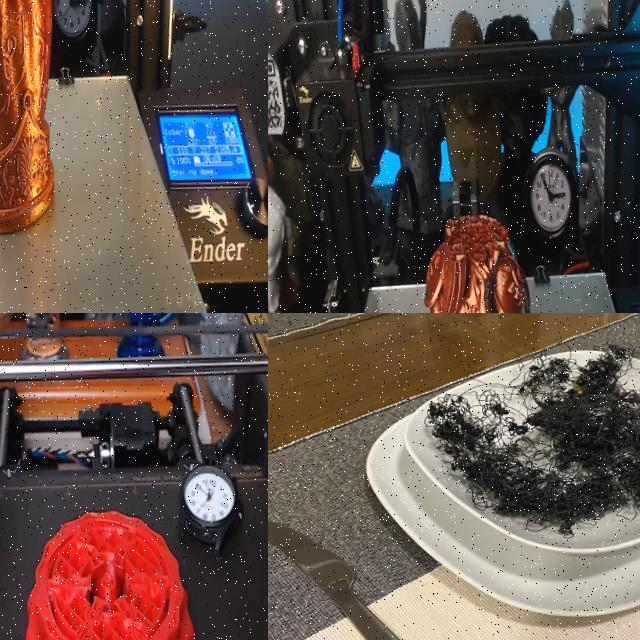spaghetti: (405, 338, 640, 557)
